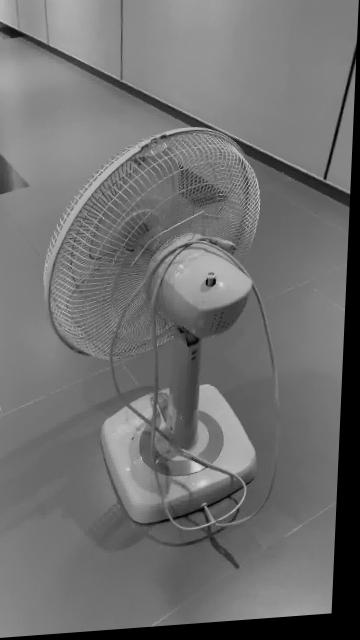Fan: (46, 131, 263, 530)
